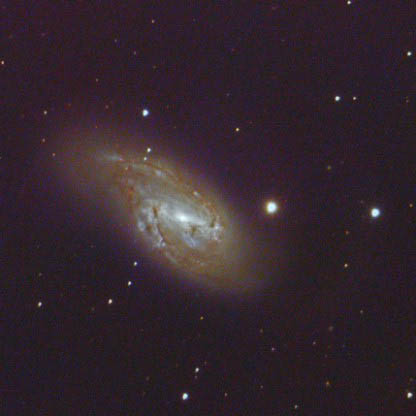Messier 66: (54, 127, 294, 315)
